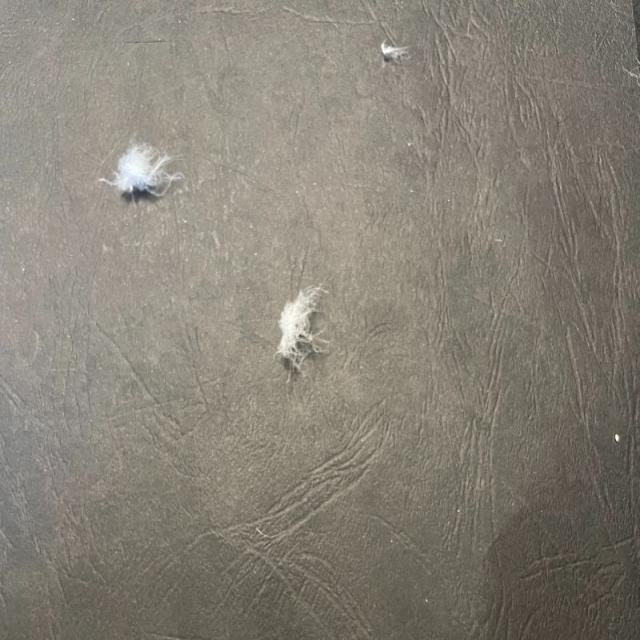feather: (108, 140, 186, 201), (274, 275, 324, 370), (377, 36, 414, 63)
